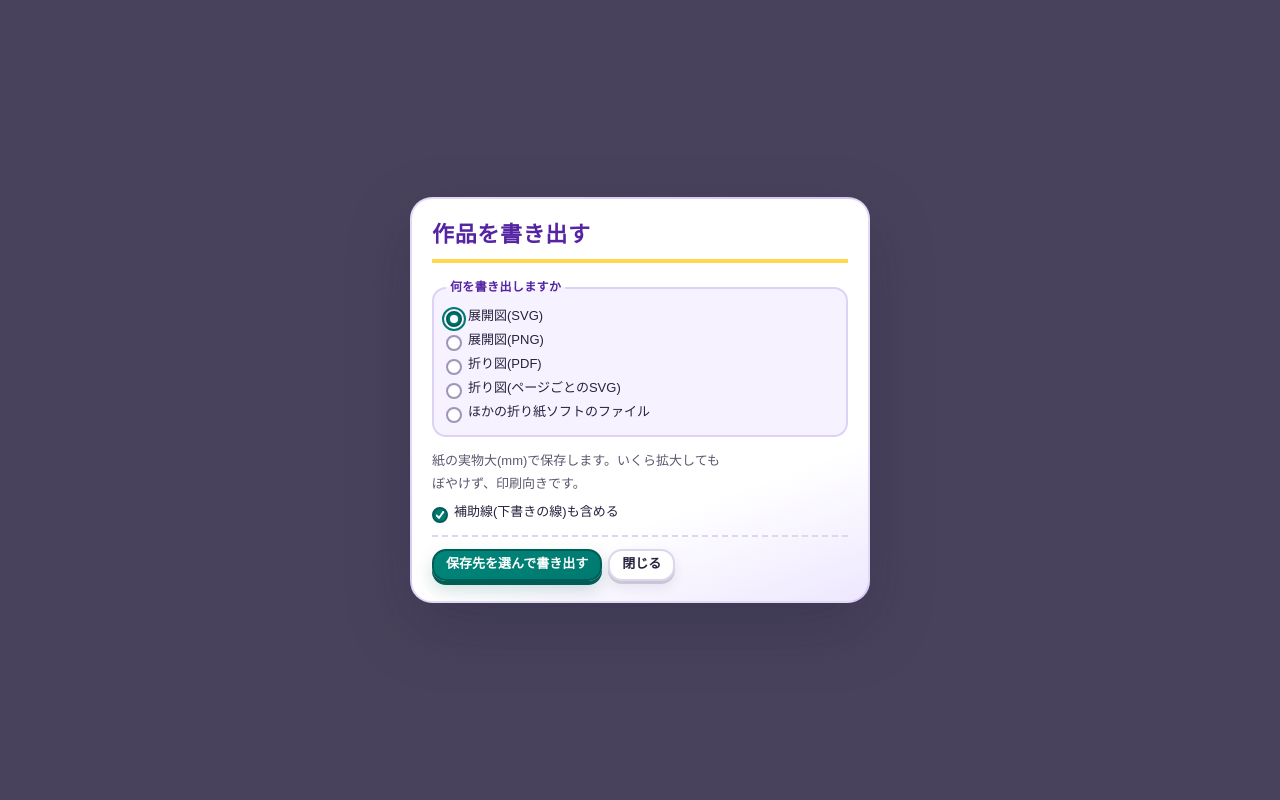
Test: 書き出しダイアログ › SVGは補助線の有無だけを引数にして書き出す
The width and height of the screenshot is (1280, 800).
Click the checkbox labelled "補助線(下書きの線)も含める": (440, 515) [432, 507, 448, 523]
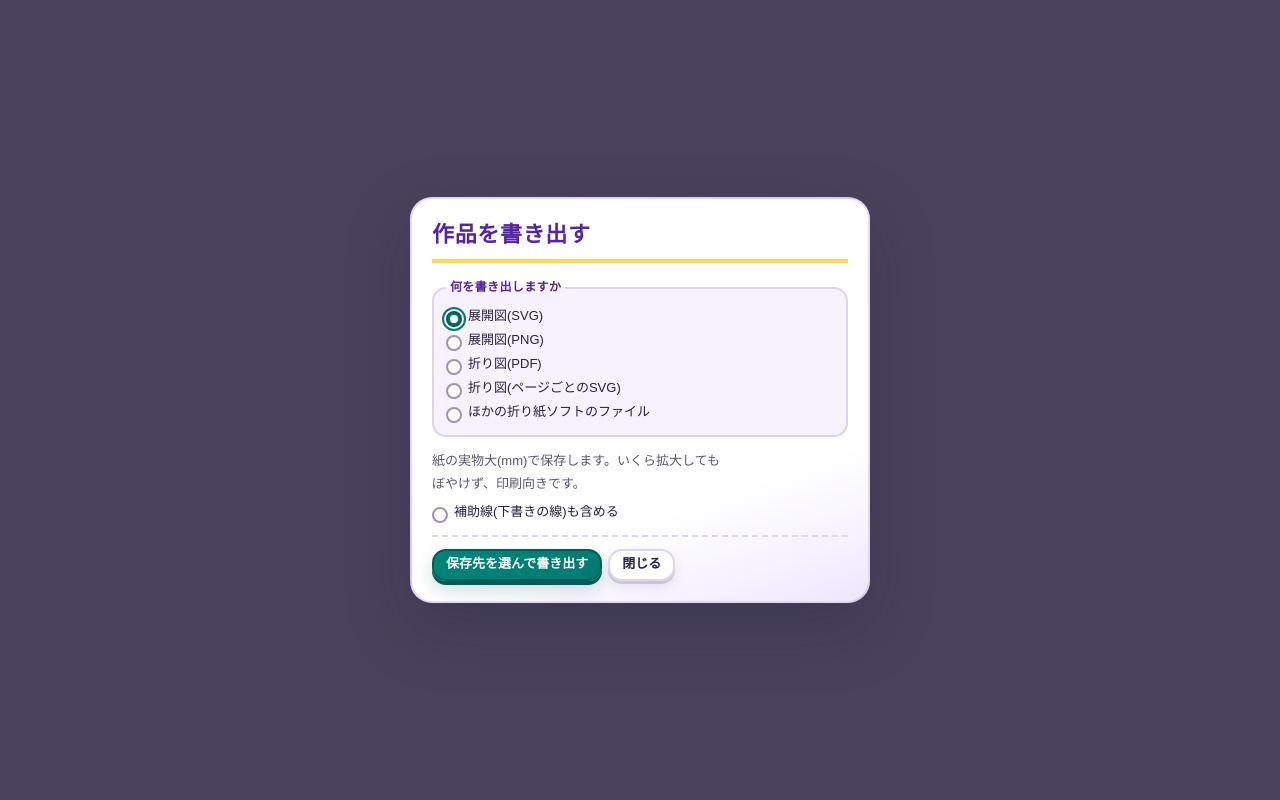
Click the button "保存先を選んで書き出す": (517, 565) [432, 549, 602, 581]
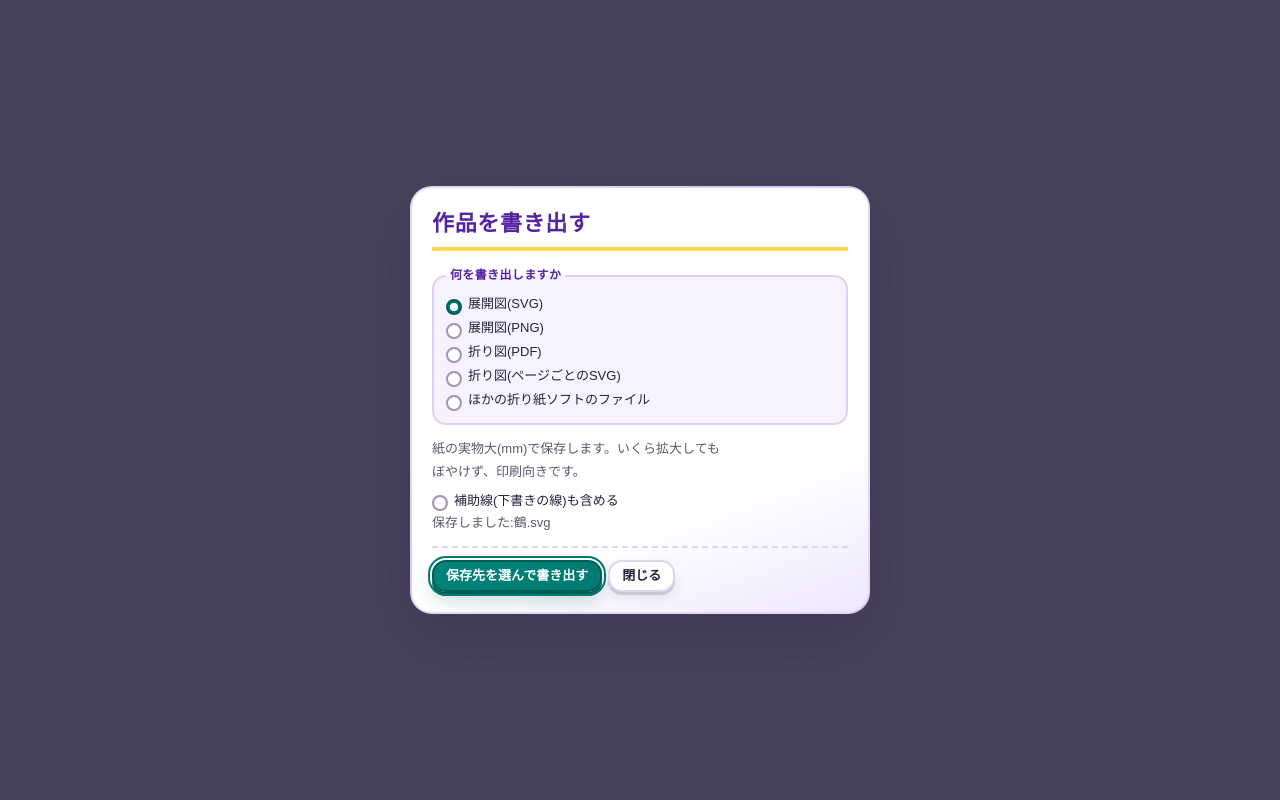
Now the text "保存しました:鶴.svg" is shown, box [432, 515, 550, 530]
